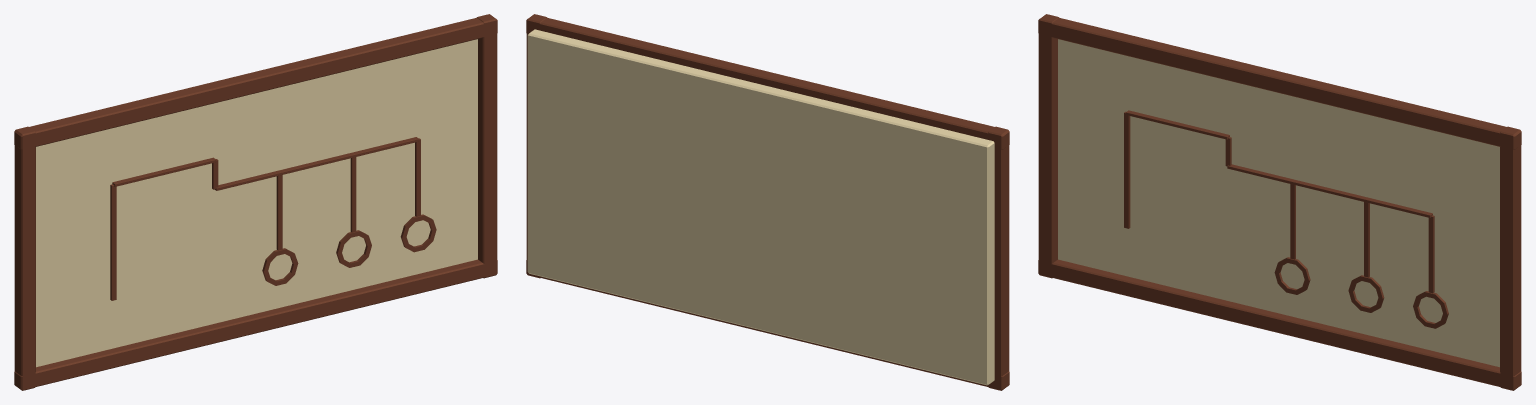
The model's file is piping_schematic.glb.
3 views of the same model, side by side, from view 1: azimuth 30°, elevation 25°; view 2: azimuth 150°, elevation 25°; view 3: azimuth 330°, elevation 25° (orthographic).
Parts seen in each view (by area): view 1: Board, Edge_001, Edge, Side, Side_001, Printed_pipe_003, Printed_pipe, Printed_pipe_001, Symbol, Symbol_001, Symbol_002, Branch_001 (+2 smaller); view 2: Board, Edge_001, Side, Edge, Side_001; view 3: Board, Edge_001, Edge, Side_001, Side, Printed_pipe_003, Printed_pipe, Printed_pipe_001, Symbol, Symbol_001, Symbol_002, Branch_002 (+2 smaller).
Part boxes in pixels (x1=…): Board: x1=36, y1=39, x2=477, y2=367; Edge_001: x1=14, y1=18, x2=497, y2=149; Edge: x1=14, y1=259, x2=497, y2=390; Side: x1=14, y1=126, x2=35, y2=390; Side_001: x1=476, y1=14, x2=497, y2=278; Printed_pipe_003: x1=215, y1=137, x2=419, y2=190; Printed_pipe: x1=110, y1=184, x2=116, y2=300; Printed_pipe_001: x1=112, y1=157, x2=216, y2=186; Symbol: x1=262, y1=248, x2=298, y2=285; Symbol_001: x1=336, y1=230, x2=371, y2=267; Symbol_002: x1=400, y1=214, x2=436, y2=252; Branch_001: x1=350, y1=157, x2=356, y2=232; Board: x1=527, y1=29, x2=994, y2=385; Edge_001: x1=526, y1=18, x2=1009, y2=149; Side: x1=988, y1=126, x2=1009, y2=390; Edge: x1=526, y1=260, x2=1009, y2=389; Side_001: x1=526, y1=14, x2=547, y2=278; Board: x1=1058, y1=39, x2=1499, y2=367; Edge_001: x1=1038, y1=18, x2=1521, y2=149; Edge: x1=1038, y1=259, x2=1521, y2=390; Side_001: x1=1500, y1=126, x2=1521, y2=390; Side: x1=1038, y1=14, x2=1059, y2=278; Printed_pipe_003: x1=1227, y1=164, x2=1432, y2=217; Printed_pipe: x1=1124, y1=111, x2=1130, y2=228; Printed_pipe_001: x1=1126, y1=110, x2=1229, y2=139; Symbol: x1=1274, y1=257, x2=1310, y2=294; Symbol_001: x1=1348, y1=275, x2=1384, y2=312; Symbol_002: x1=1413, y1=291, x2=1448, y2=328; Branch_002: x1=1428, y1=215, x2=1434, y2=293.
Size of the model in its own units: 2.12 by 1.09 by 0.131.
